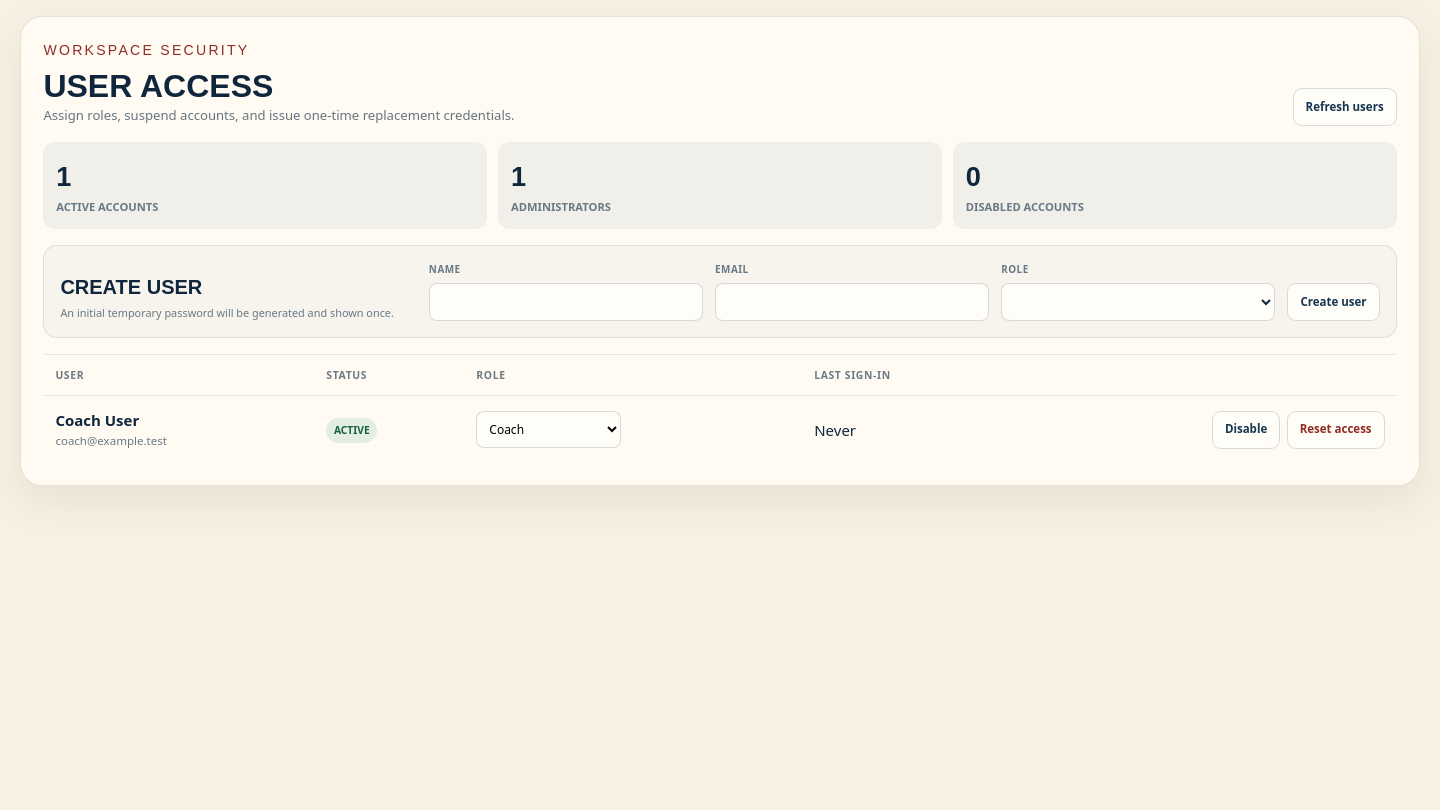
Scenario: AdminUserManagement › shows the one-time password returned by an access reset
Click the button "Reset access".
click(1336, 430)  # box x1=1287 y1=411 x2=1385 y2=449
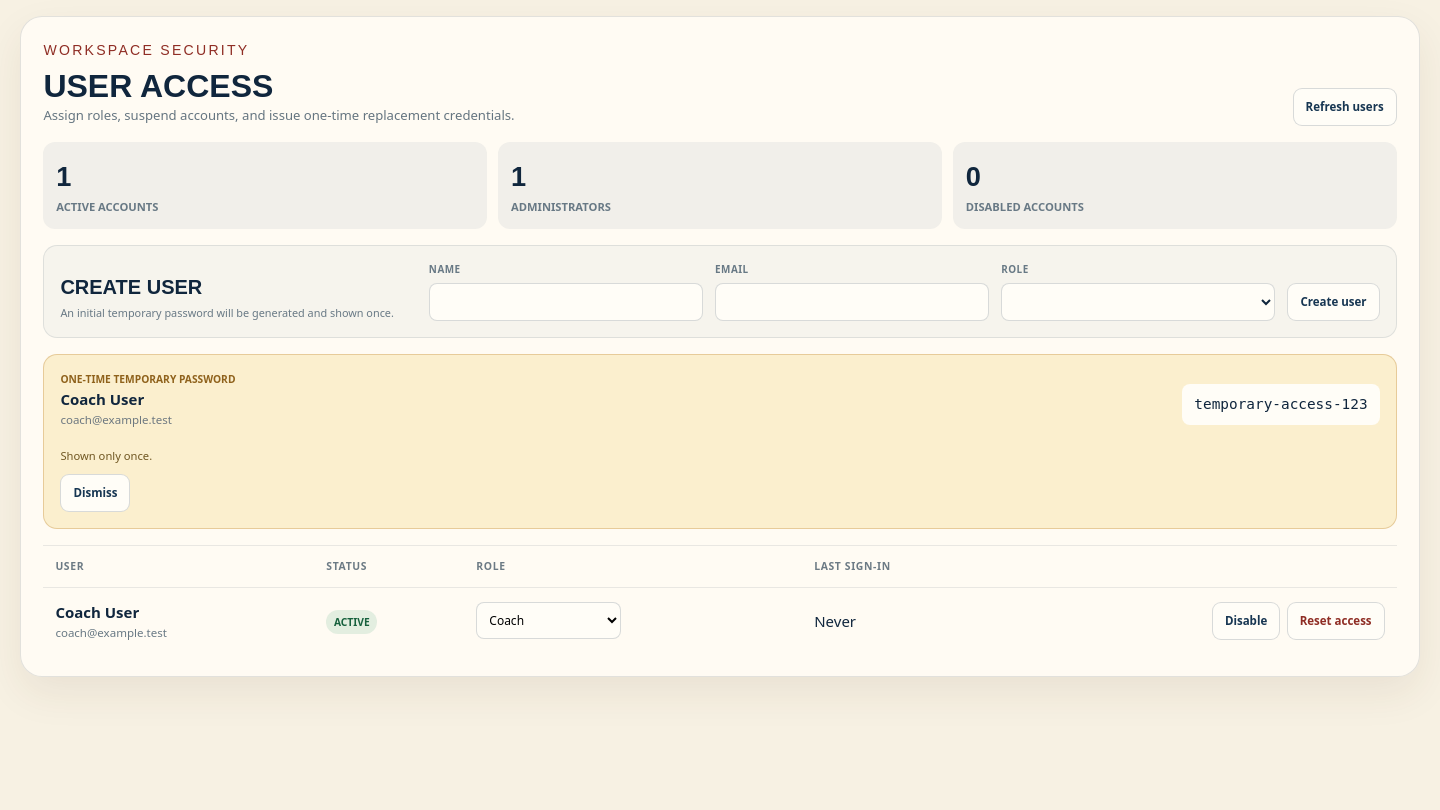
Now the element with test id "temporary-access" shows "temporary-access-123", box x1=1194 y1=396 x2=1368 y2=412
Now the element with test id "temporary-access" shows "Shown only once.", box x1=60 y1=448 x2=152 y2=463
